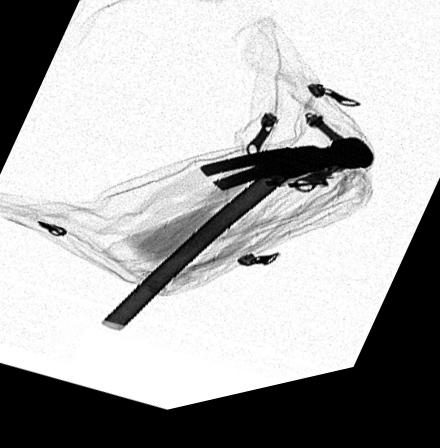Hammer: (98, 151, 374, 335)
